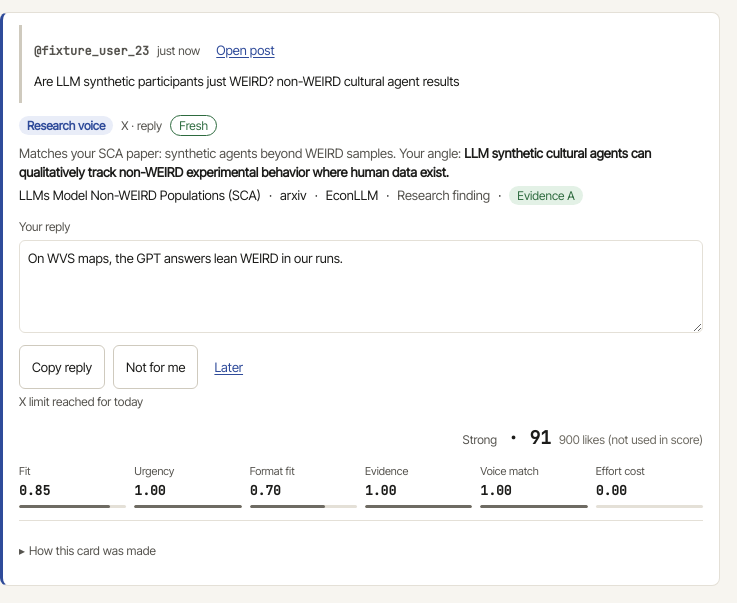
Test: X budget at zero › demotes the X primary to a secondary Copy reply with the limit line beneath
Expected: the text with test id "cta-limit" reads "X limit reached for today", [19,394,143,409]
Step 1. Click the button with test id "cta-copy-only" → (62, 367), box [19,345,105,389]
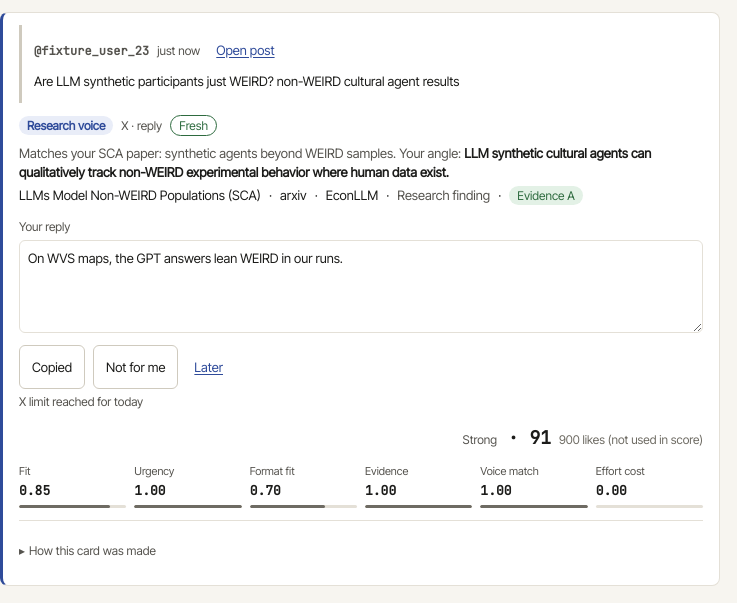
Expected: the button with test id "cta-copy-only" reads "Copied", [19,345,85,389]
